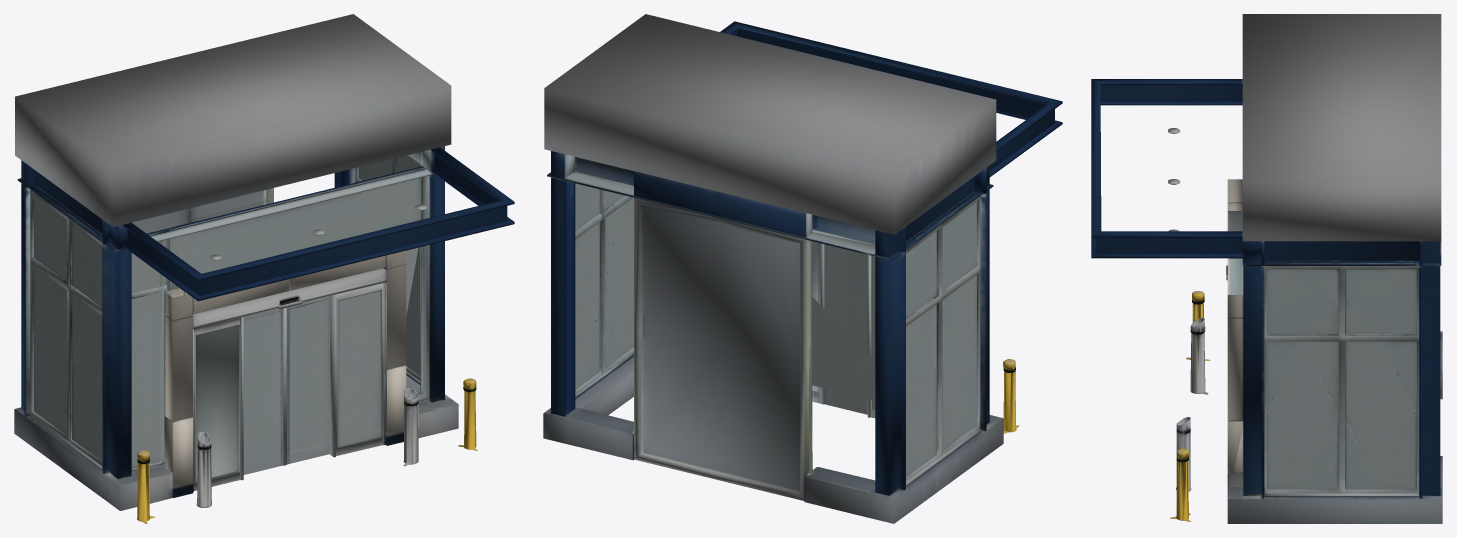
The model's file is terminal_portal.glb.
3 views of the same model, side by side, from view 1: azimuth 30°, elevation 25°; view 2: azimuth 150°, elevation 25°; view 3: azimuth 270°, elevation 25° (orthographic). The views are drawn at different scales.
Parts seen in each view (by area): view 1: Portal de entrada do terminal; view 2: Portal de entrada do terminal; view 3: Portal de entrada do terminal.
Boxes of the visible parts, x1,y1,x2,y2 form: Portal de entrada do terminal: [14, 14, 514, 523]; Portal de entrada do terminal: [543, 14, 1062, 523]; Portal de entrada do terminal: [1091, 14, 1442, 523].
Bounding box in the file's own units: 0.998 × 0.959 × 0.8848.
1 material, 1 textured.
